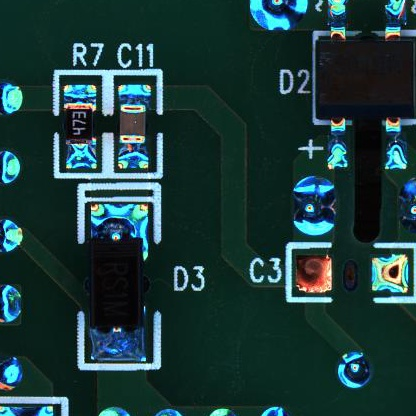spot: (293, 175, 336, 237), (336, 351, 372, 389)
